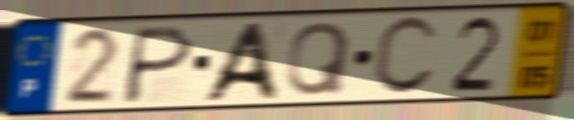2: (61, 25, 123, 107), (449, 14, 505, 95)
A: (196, 20, 284, 104)
C: (369, 14, 442, 100)
P: (117, 22, 199, 106)
Q: (283, 20, 354, 100)
